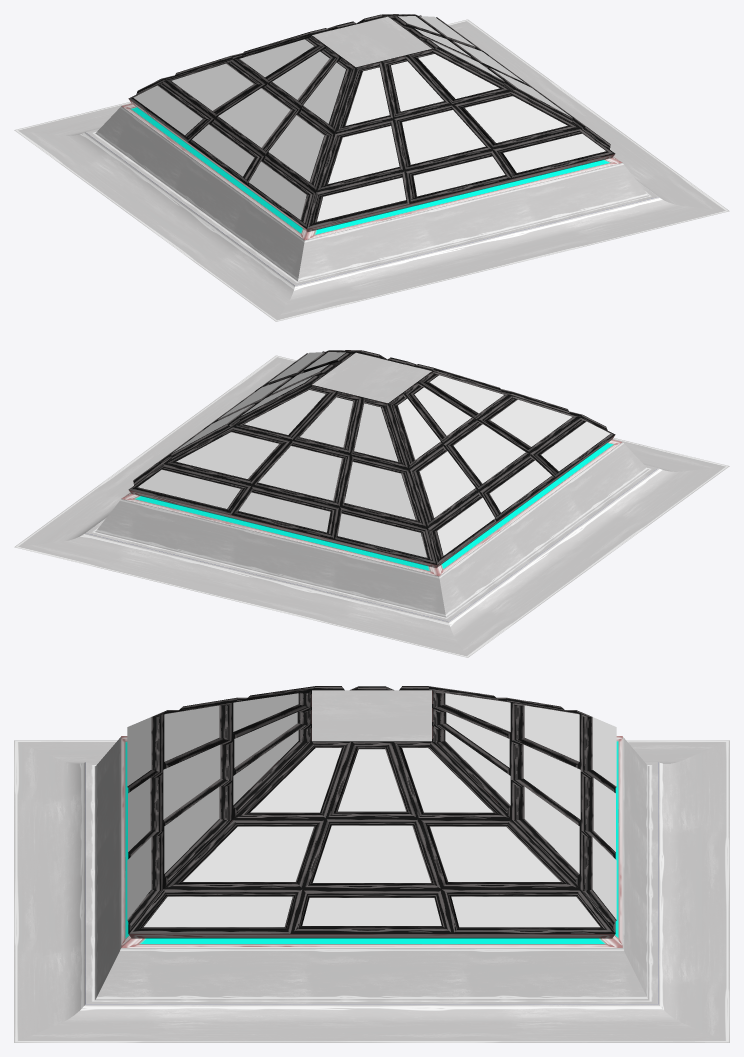
The model's file is Ceiling3x3.fbx.
3 views of the same model, one above another, from view 1: azimuth 30°, elevation 25°; view 2: azimuth 150°, elevation 25°; view 3: azimuth 270°, elevation 25° (orthographic). The views are drawn at different scales.
Parts seen in each view (by area): view 1: Ceiling3x3; view 2: Ceiling3x3; view 3: Ceiling3x3.
Part boxes in pixels (box(x1,y1,x2,y2)): Ceiling3x3: box(14, 14, 729, 321); Ceiling3x3: box(14, 350, 729, 657); Ceiling3x3: box(14, 686, 729, 1042).
Bounding box in the file's own units: 600 × 163 × 600.
